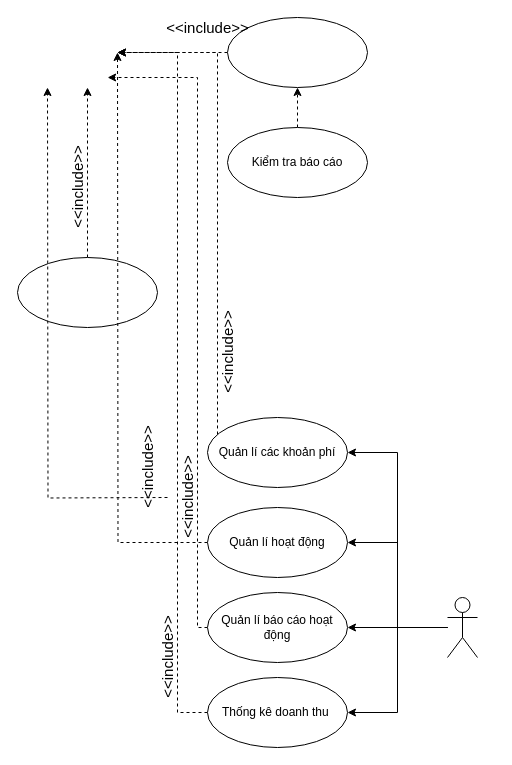
Some shapes in this 512 by 765 pixel diagram are drawn without their labels. The centre of each missing label's shape, as x and y in pixels:
"Báo cáo hoạt động" goes at pixel 297 52.
"HIệu trưởng" goes at pixel 462 627.
"Điểm danh" goes at pixel 87 292.
